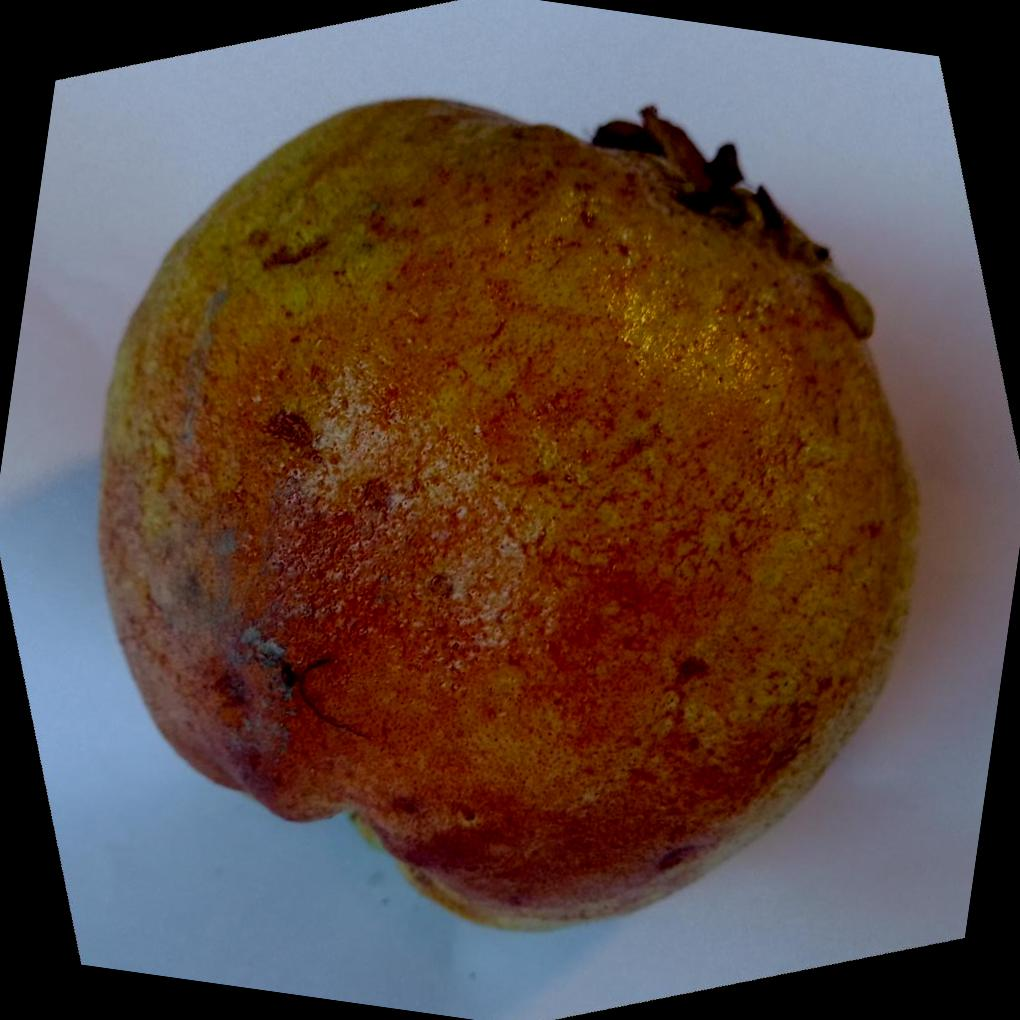FreshOrange: (99, 95, 924, 935)
